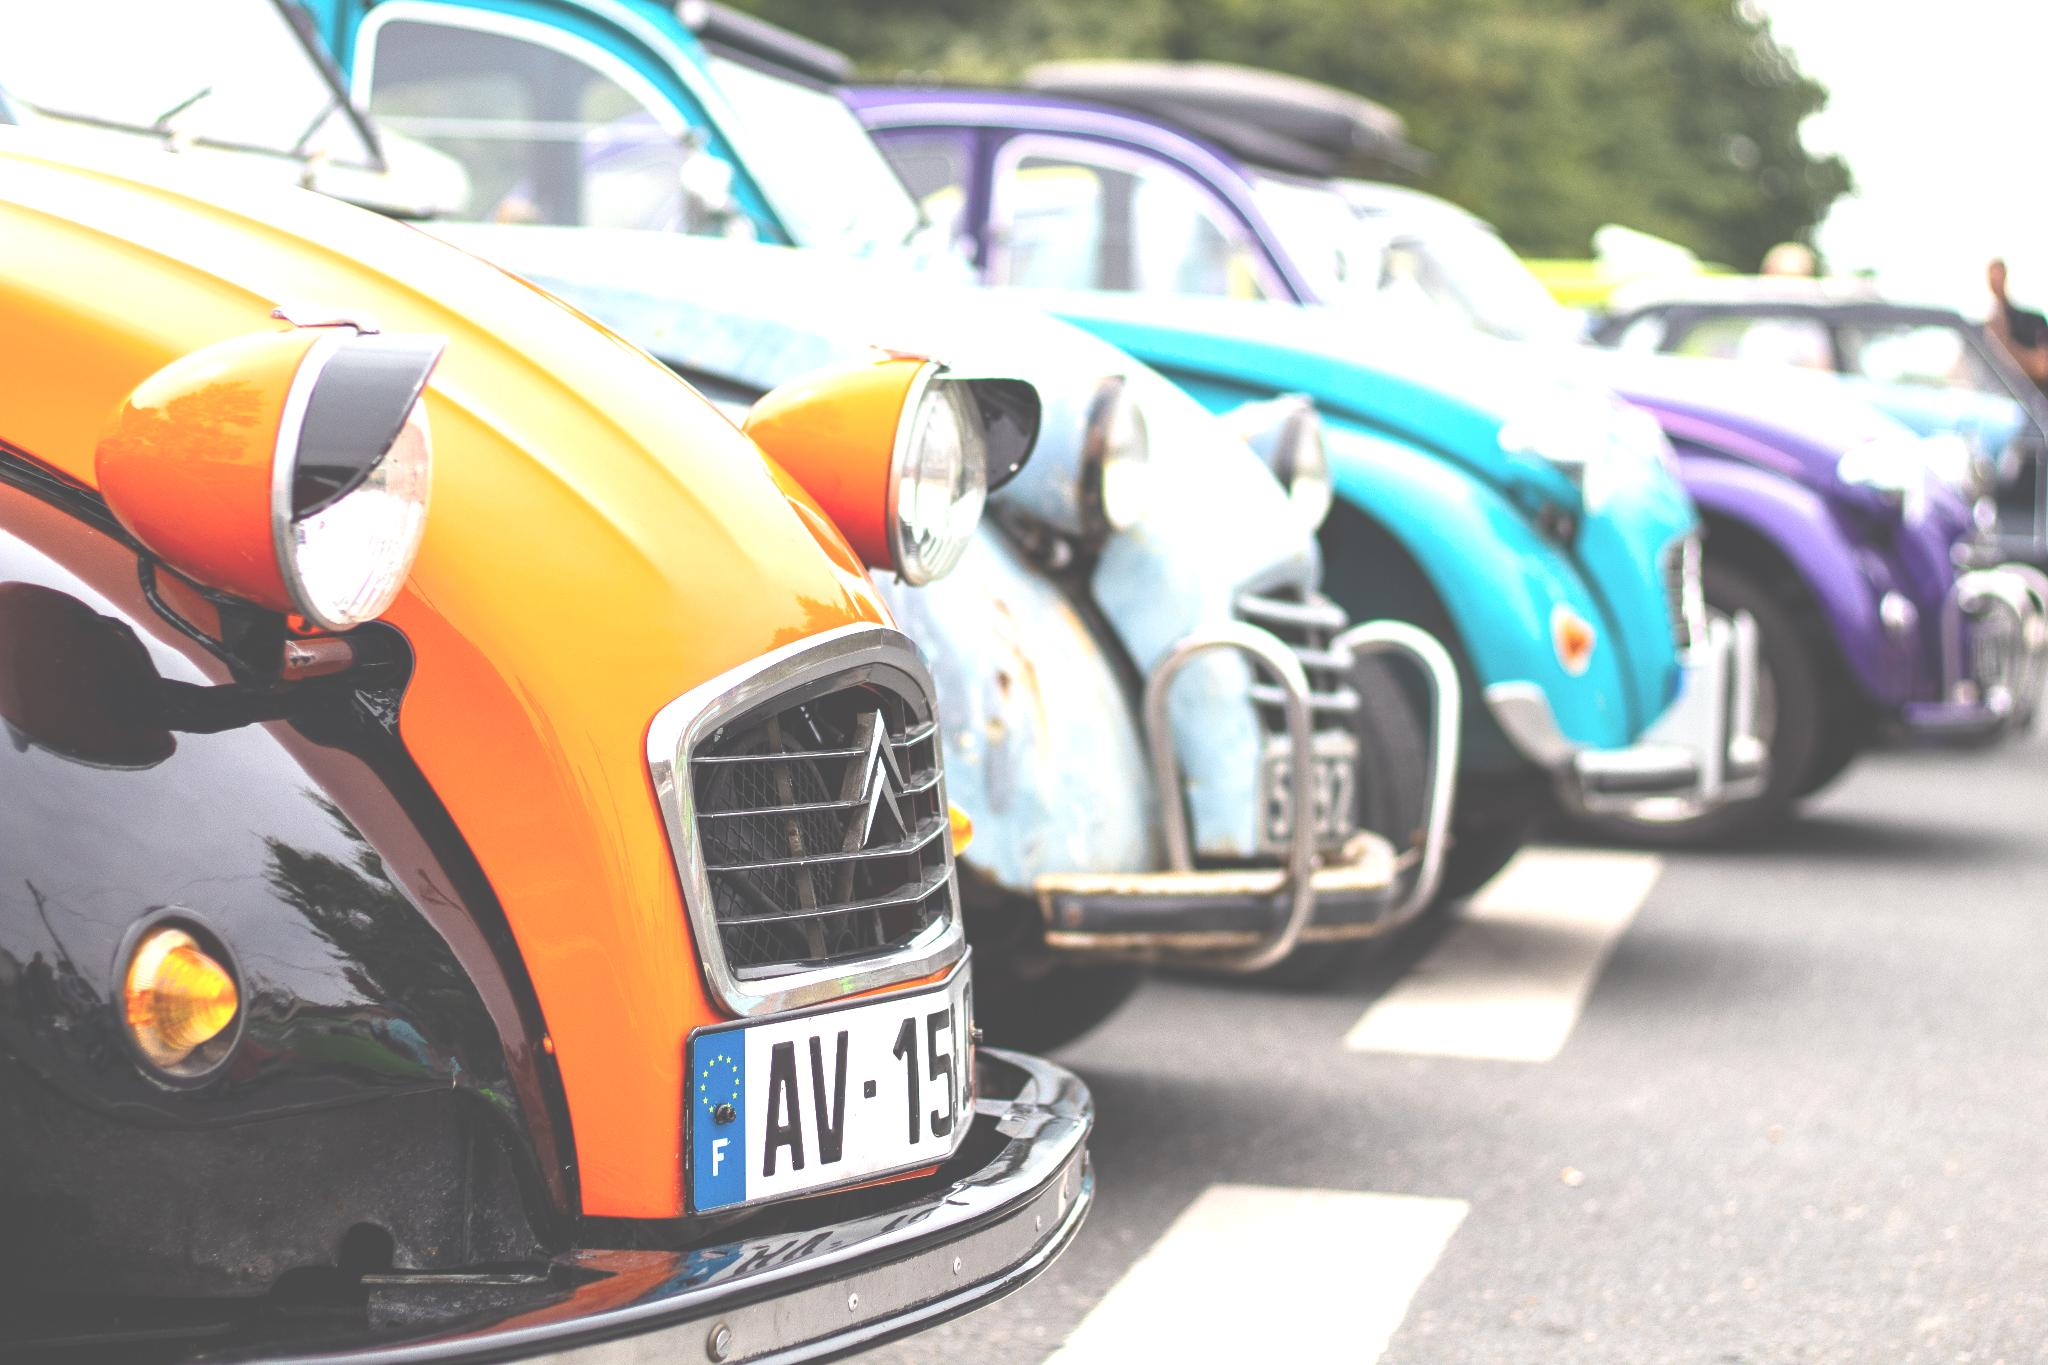Citroen: (815, 678, 932, 865)
